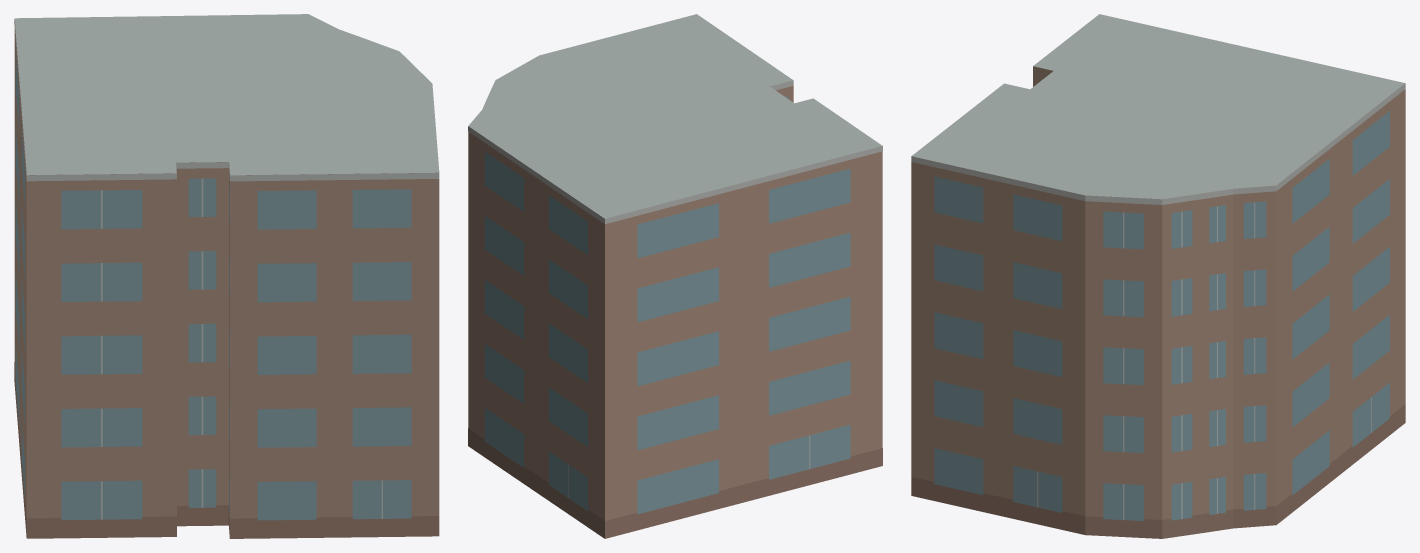
The model's file is survey-upis-32728352.glb.
3 views of the same model, side by side, from view 1: azimuth 30°, elevation 25°; view 2: azimuth 150°, elevation 25°; view 3: azimuth 270°, elevation 25° (orthographic). The views are drawn at different scales.
Visible parts, largest first — view 1: survey-upis-32728352.tmp; view 2: survey-upis-32728352.tmp; view 3: survey-upis-32728352.tmp.
Boxes of the visible parts, x1,y1,x2,y2 form: survey-upis-32728352.tmp: (14, 14, 439, 538); survey-upis-32728352.tmp: (468, 14, 882, 538); survey-upis-32728352.tmp: (911, 14, 1405, 538).
Bounding box in the file's own units: 16.98 × 14.5 × 19.14.
